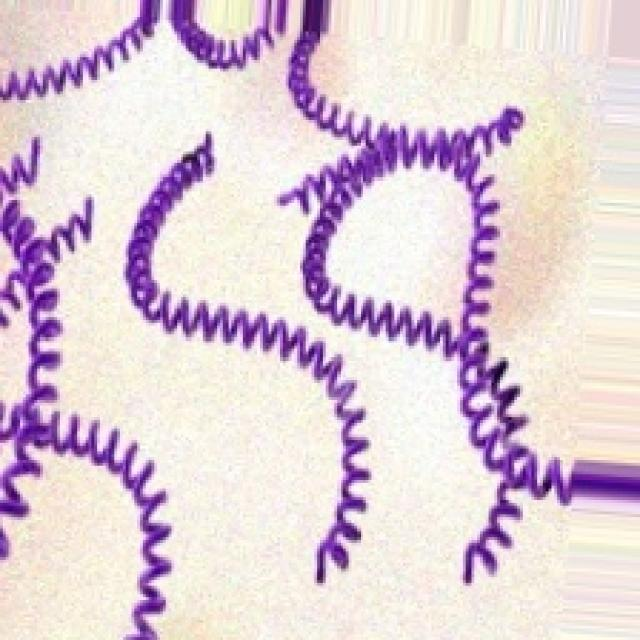Spiral_bacteria: (0, 0, 600, 637)
